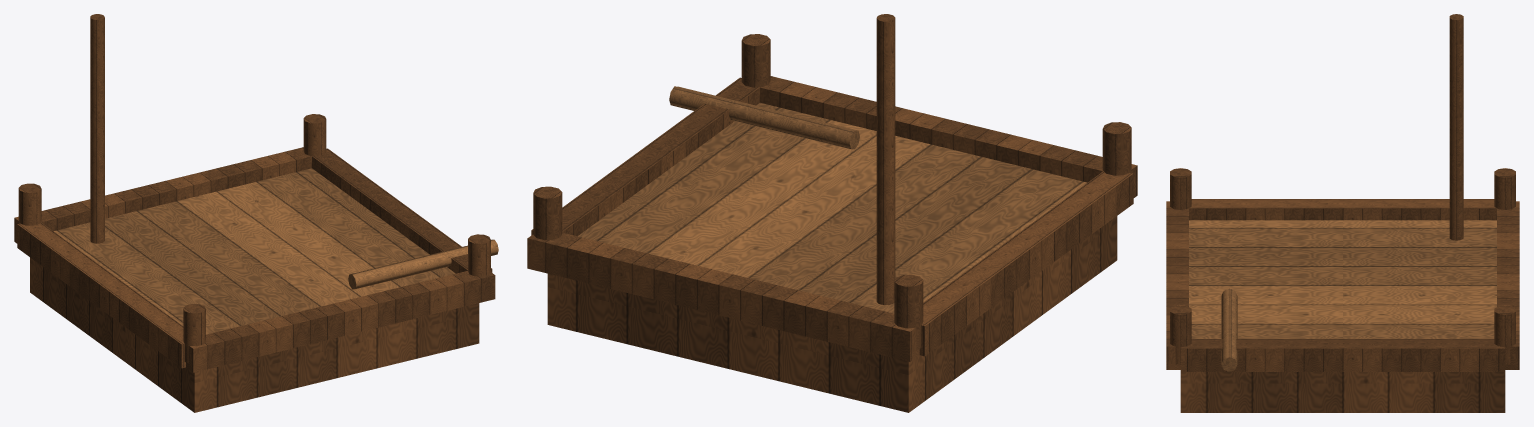
Rendered from raft.glb.
3 renders of one model, left to right at view 1: azimuth 30°, elevation 25°; view 2: azimuth 150°, elevation 25°; view 3: azimuth 270°, elevation 25°, orthographic. The views are drawn at different scales.
Parts seen in each view (by area): view 1: raft; view 2: raft; view 3: raft.
Boxes of the visible parts, x1=… form: raft: x1=14, y1=14, x2=498, y2=412; raft: x1=527, y1=14, x2=1137, y2=412; raft: x1=1166, y1=14, x2=1519, y2=412.
Size of the model in its own units: 2.37 by 1.9 by 2.18.
Materials: 2 (2 with a texture image).
